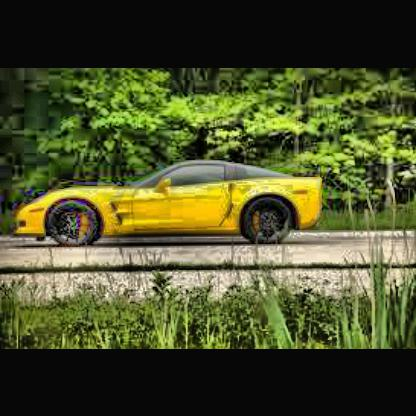Chevrolet Corvette ZR1 2012: (13, 153, 328, 252)
